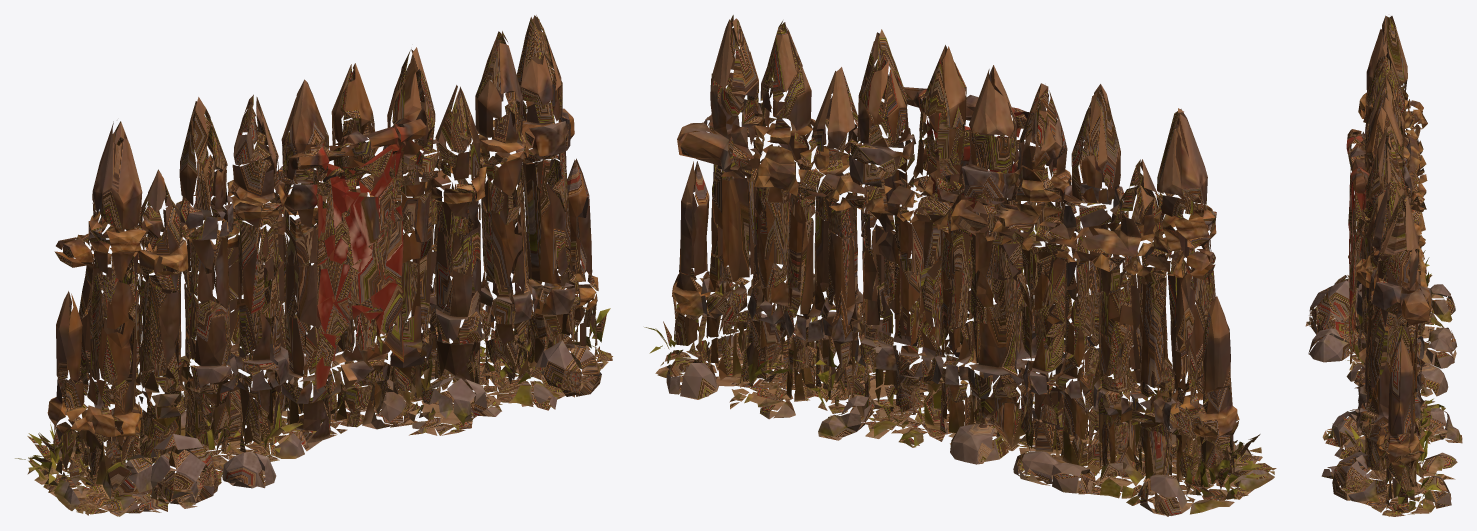
The model's file is goblin_fence.glb.
3 renders of one model, left to right at view 1: azimuth 30°, elevation 25°; view 2: azimuth 150°, elevation 25°; view 3: azimuth 270°, elevation 25°, orthographic. The views are drawn at different scales.
Visible parts, largest first — view 1: world; view 2: world; view 3: world.
Boxes of the visible parts, box(x1,y1,x2,y2) form: world: box(15, 15, 612, 516); world: box(644, 15, 1276, 516); world: box(1305, 15, 1462, 516).
Bounding box in the file's own units: 1.89 × 1.11 × 0.5139.
1 material, 1 textured.
